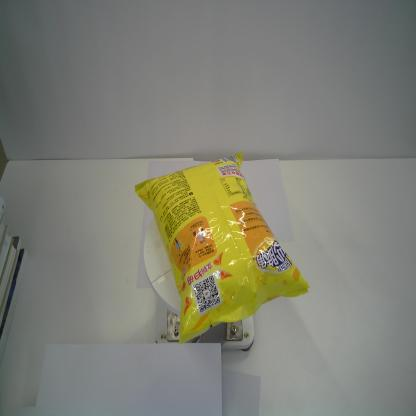Puffed Food: (134, 152, 309, 345)
